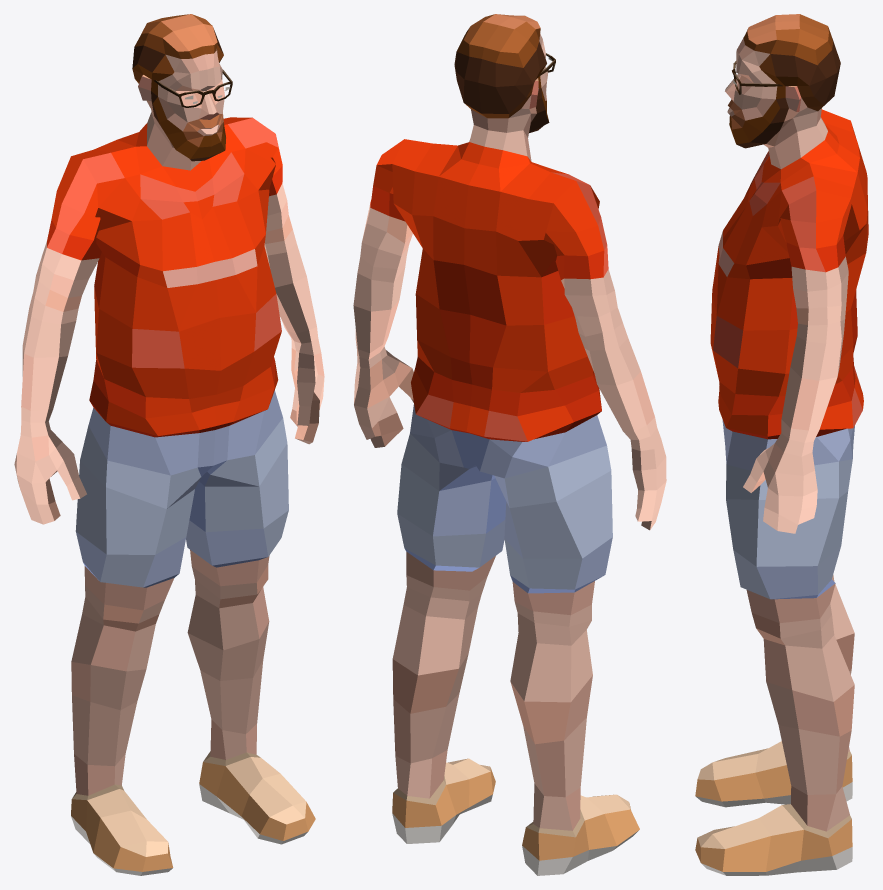
File: casual_Male_K.obj
The picture shows the model from 3 angles, left to right: view 1: azimuth 30°, elevation 25°; view 2: azimuth 150°, elevation 25°; view 3: azimuth 270°, elevation 25°; orthographic projection.
Visible parts, largest first — view 1: casual_Male_K; view 2: casual_Male_K; view 3: casual_Male_K.
Part boxes in pixels (x1,y1,x2,y2): casual_Male_K: (14, 14, 324, 875); casual_Male_K: (353, 14, 666, 875); casual_Male_K: (695, 14, 868, 875).
Bounding box in the file's own units: 25.64 × 66.2 × 12.87.
1 material, 1 textured.
